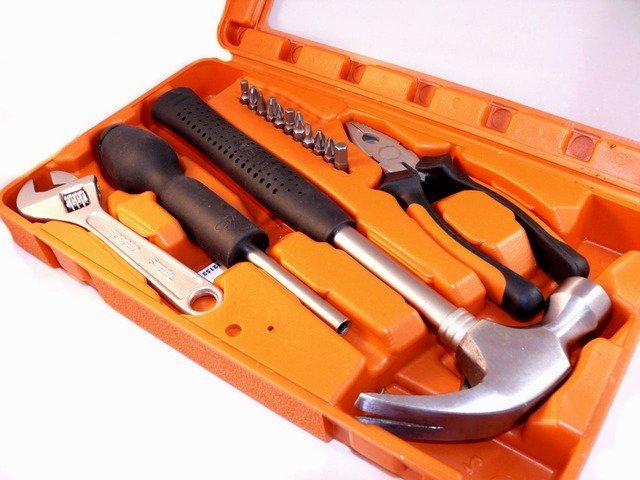Adjustable spanner: (16, 171, 222, 315)
Hammer: (152, 88, 610, 441)
Pliers: (347, 122, 588, 318)
Screwdriver: (99, 124, 349, 333)
